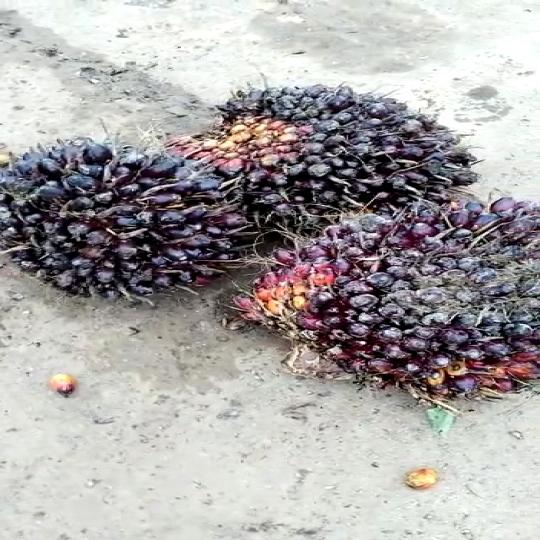kurang masak: (260, 200, 540, 399), (0, 140, 246, 300), (216, 83, 487, 223)
